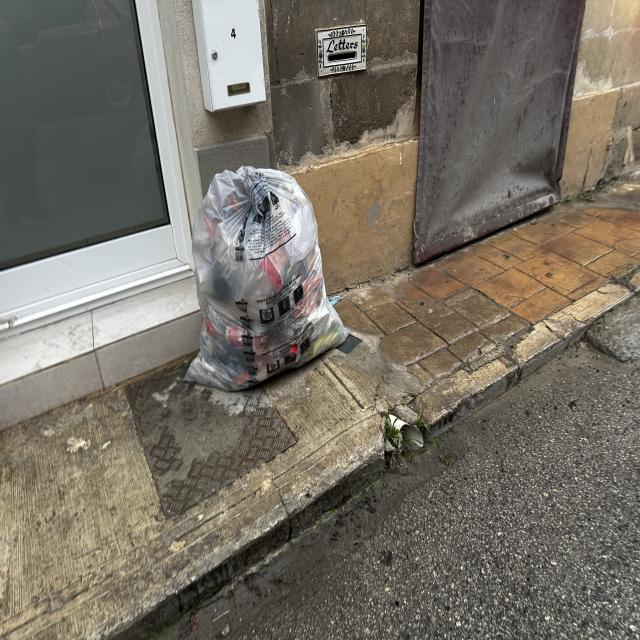Recyclable Material -Grey Bags-: (184, 166, 353, 393)
